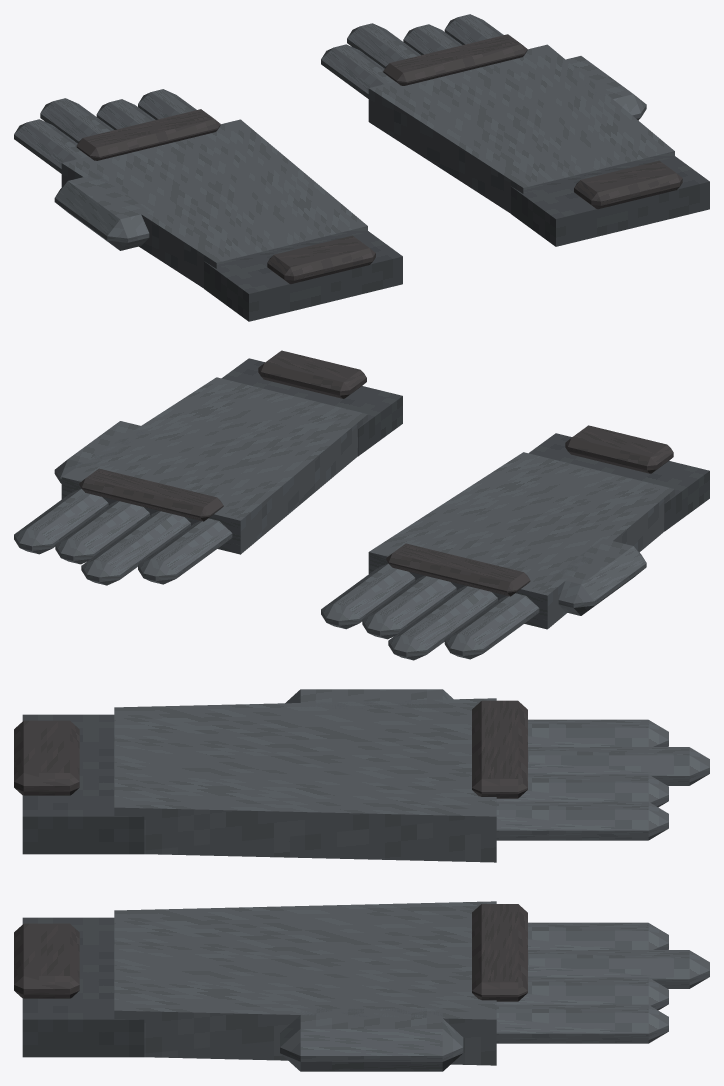
The model's file is gloves_tactical.glb.
3 views of the same model, one above another, from view 1: azimuth 30°, elevation 25°; view 2: azimuth 150°, elevation 25°; view 3: azimuth 270°, elevation 25° (orthographic). The views are drawn at different scales.
Parts seen in each view (by area): view 1: block_glove palm (×2), block_cuff (×2), block_finger (×8), block_reinforced knuckle panel (×2), block_adjustable cuff tab (×2), block_thumb (×2); view 2: block_glove palm (×2), block_finger (×8), block_cuff (×2), block_reinforced knuckle panel (×2), block_adjustable cuff tab (×2), block_thumb (×2); view 3: block_glove palm (×2), block_finger (×8), block_cuff (×2), block_thumb (×2), block_reinforced knuckle panel (×2), block_adjustable cuff tab (×2).
Boxes of the visible parts, left/top/right/bottom form: block_glove palm (×2): left=61, top=44, right=674, bottom=288; block_cuff (×2): left=204, top=156, right=709, bottom=321; block_finger (×8): left=14, top=14, right=503, bottom=173; block_reinforced knuckle panel (×2): left=76, top=34, right=527, bottom=160; block_adjustable cuff tab (×2): left=267, top=160, right=682, bottom=283; block_thumb (×2): left=54, top=56, right=646, bottom=250; block_glove palm (×2): left=61, top=377, right=674, bottom=629; block_finger (×8): left=14, top=488, right=539, bottom=660; block_cuff (×2): left=221, top=358, right=709, bottom=530; block_reinforced knuckle panel (×2): left=79, top=468, right=530, bottom=596; block_adjustable cuff tab (×2): left=258, top=350, right=673, bottom=473; block_thumb (×2): left=54, top=421, right=646, bottom=615; block_glove palm (×2): left=114, top=698, right=496, bottom=1065; block_finger (×8): left=496, top=719, right=709, bottom=1043; block_cuff (×2): left=22, top=714, right=144, bottom=1057; block_thumb (×2): left=280, top=689, right=463, bottom=1071; block_reinforced knuckle panel (×2): left=472, top=700, right=527, bottom=1001; block_adjustable cuff tab (×2): left=14, top=720, right=79, bottom=998.
Size of the model in its own units: 0.2413 by 0.0197 by 0.1988.
Materials: 1 (1 with a texture image).
